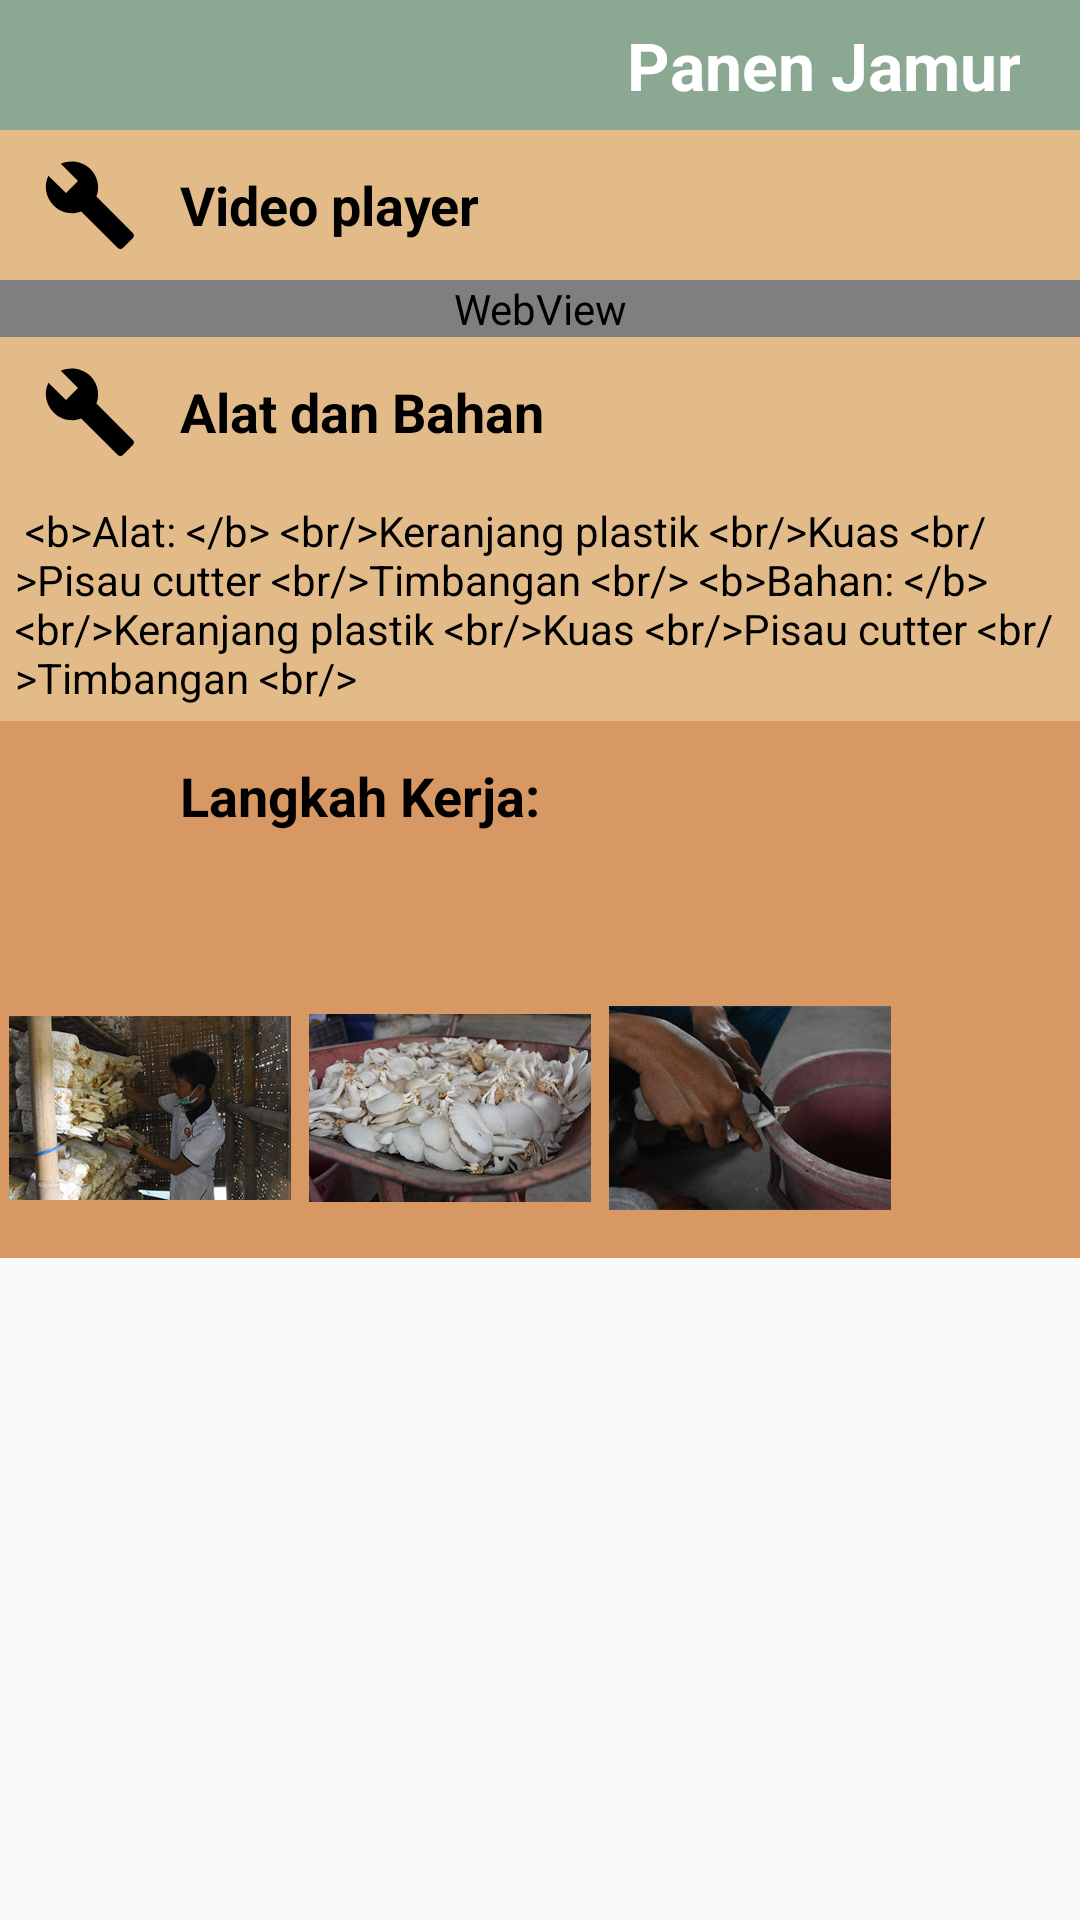

Named icons in this screenshot (1080*1920) and their centers, [x,y]:
build: [89,205], [89,412]
harvest: [750,1108], [450,1108], [150,1108]
